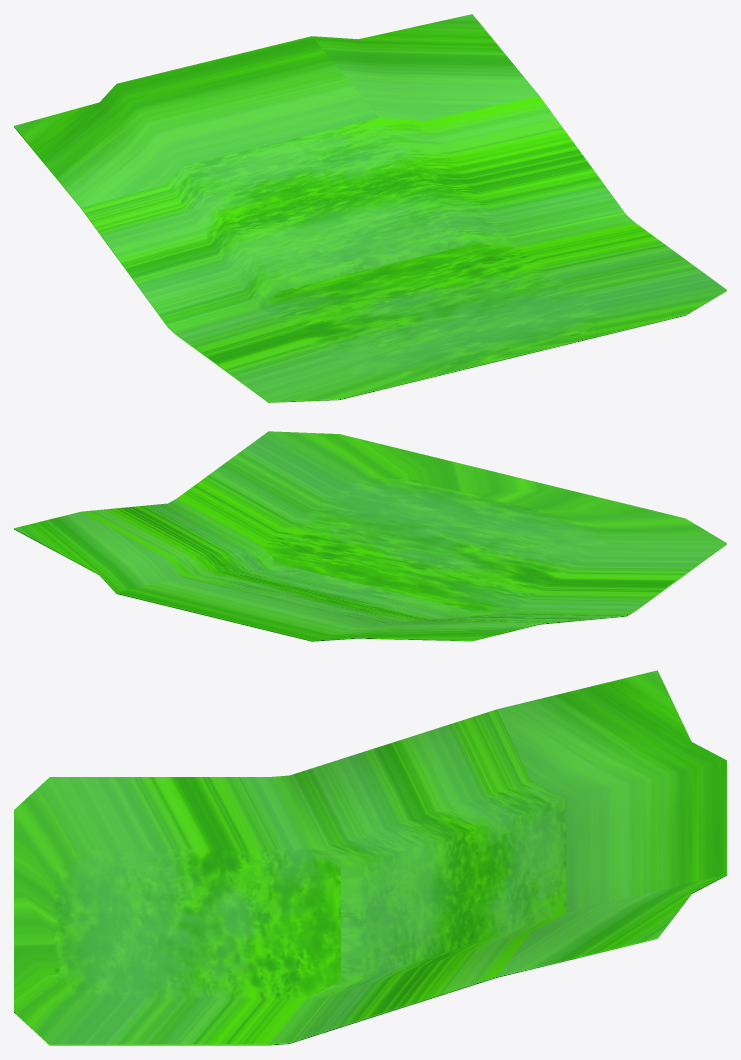
Rendered from HubCutsceneplace1.fbx.
3 views of the same model, one above another, from view 1: azimuth 30°, elevation 25°; view 2: azimuth 150°, elevation 25°; view 3: azimuth 270°, elevation 25° (orthographic). The views are drawn at different scales.
Parts seen in each view (by area): view 1: Cube; view 2: Cube; view 3: Cube.
Boxes of the visible parts, <box> form: Cube: <box>14,14,726,402</box>; Cube: <box>14,431,726,641</box>; Cube: <box>14,670,726,1045</box>.
Bounding box in the file's own units: 2799 × 595 × 3157.
